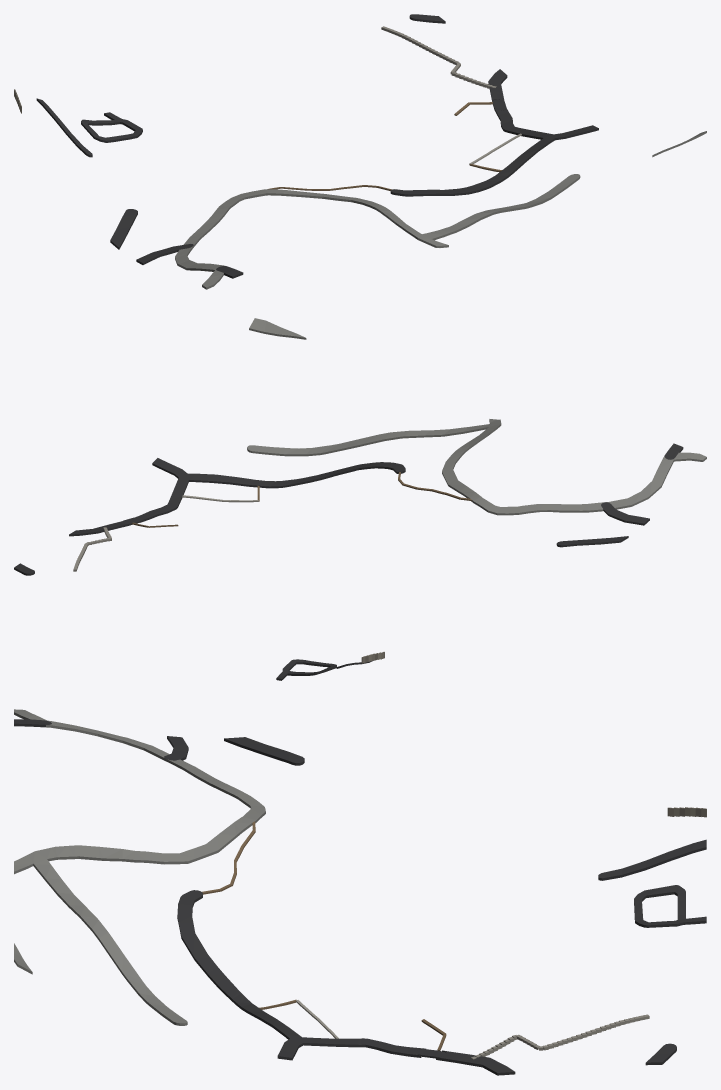
File: 17-109438-59465.8bcb3877.glb
3 views of the same model, one above another, from view 1: azimuth 30°, elevation 25°; view 2: azimuth 150°, elevation 25°; view 3: azimuth 270°, elevation 25° (orthographic). The views are drawn at different scales.
Size of the model in its own units: 293 by 66.27 by 292.
